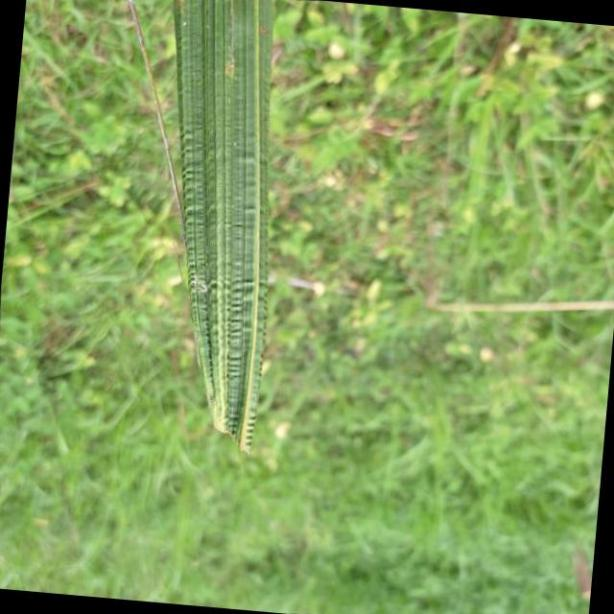Boron: (170, 0, 274, 446)
